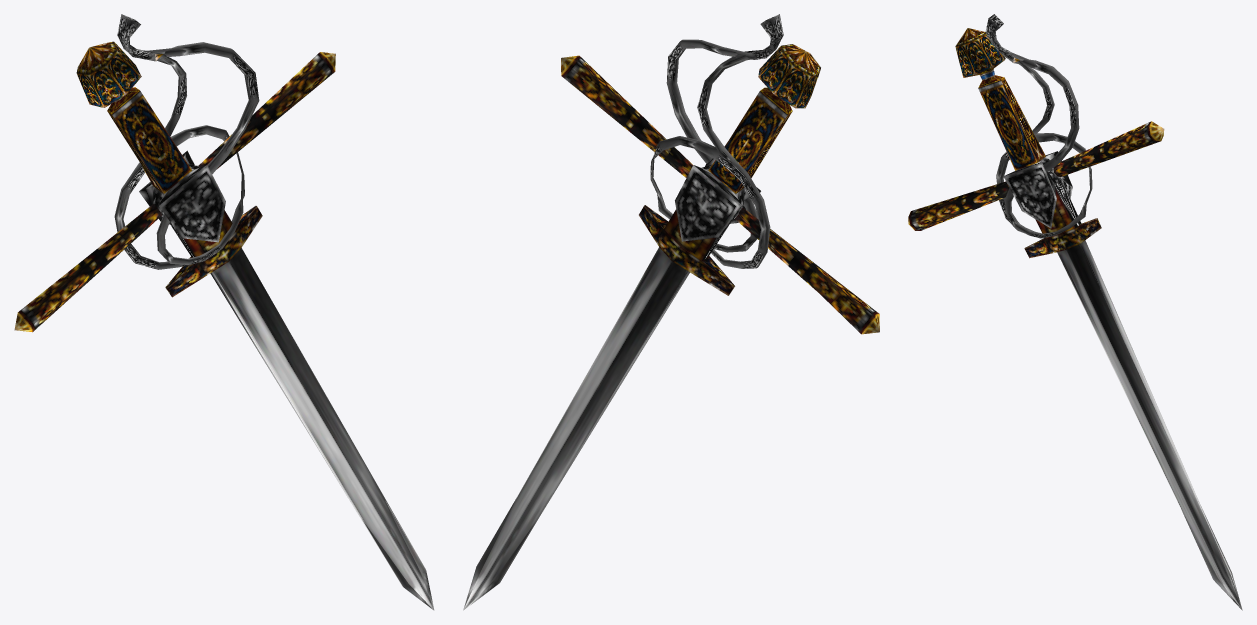
Rendered from icon1.ico.obj.
The picture shows the model from 3 angles, left to right: view 1: azimuth 30°, elevation 25°; view 2: azimuth 150°, elevation 25°; view 3: azimuth 330°, elevation 25°; orthographic projection. The views are drawn at different scales.
Bounding box in the file's own units: 2.92 × 4.46 × 0.2991.
1 material, 1 textured.
